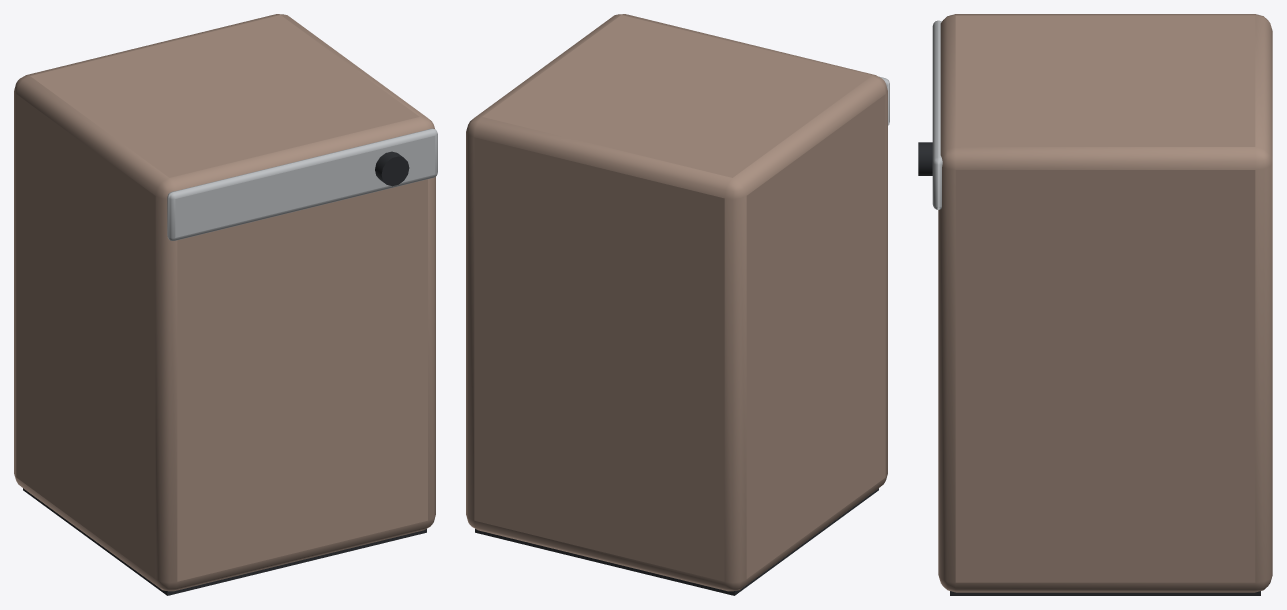
The model's file is washer_old.fbx.
3 views of the same model, side by side, from view 1: azimuth 30°, elevation 25°; view 2: azimuth 150°, elevation 25°; view 3: azimuth 270°, elevation 25° (orthographic). The views are drawn at different scales.
Visible parts, largest first — view 1: washer_old; view 2: washer_old; view 3: washer_old.
Boxes of the visible parts, <box> form: washer_old: <box>14,14,437,595</box>; washer_old: <box>466,14,889,595</box>; washer_old: <box>918,14,1272,595</box>.
Bounding box in the file's own units: 0.6 × 0.855 × 0.615.
